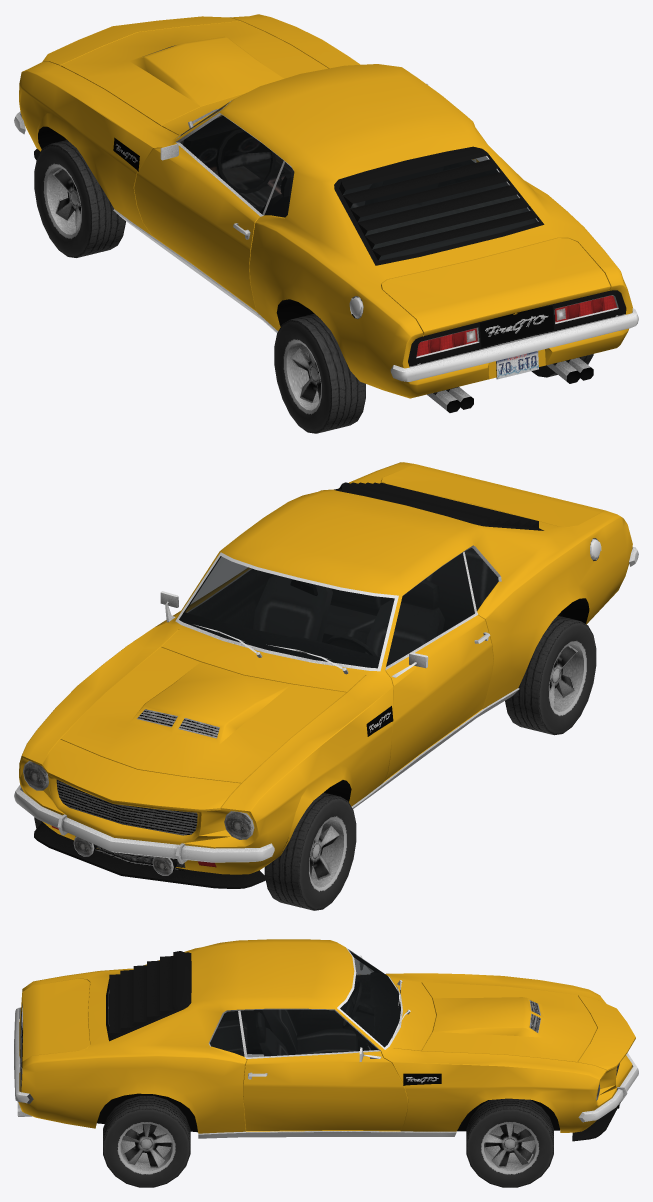
The model's file is musclecar.glb.
3 views of the same model, one above another, from view 1: azimuth 30°, elevation 25°; view 2: azimuth 150°, elevation 25°; view 3: azimuth 270°, elevation 25° (orthographic). The views are drawn at different scales.
Parts seen in each view (by area): view 1: Body, Trim, Glass, Interior, WheelRL, WheelFL, LightsRear; view 2: Body, Trim, Glass, Interior, WheelFL, WheelRL, LightsFront; view 3: Body, Trim, Glass, Interior, WheelRR, WheelFR.
Boxes of the visible parts, x1=… form: Body: x1=19, y1=14, x2=632, y2=398; Trim: x1=14, y1=45, x2=638, y2=412; Glass: x1=180, y1=102, x2=537, y2=260; Interior: x1=181, y1=116, x2=537, y2=260; WheelRL: x1=274, y1=313, x2=365, y2=433; WheelFL: x1=34, y1=140, x2=125, y2=257; LightsRear: x1=416, y1=295, x2=616, y2=356; Body: x1=19, y1=462, x2=632, y2=874; Trim: x1=14, y1=482, x2=638, y2=888; Glass: x1=179, y1=548, x2=498, y2=668; Interior: x1=179, y1=548, x2=498, y2=668; WheelFL: x1=264, y1=792, x2=356, y2=910; WheelRL: x1=505, y1=615, x2=596, y2=735; LightsFront: x1=23, y1=762, x2=252, y2=875; Body: x1=18, y1=939, x2=635, y2=1133; Trim: x1=14, y1=947, x2=638, y2=1141; Glass: x1=109, y1=949, x2=400, y2=1057; Interior: x1=109, y1=951, x2=400, y2=1056; WheelRR: x1=103, y1=1095, x2=190, y2=1187; WheelFR: x1=466, y1=1098, x2=553, y2=1187.
Bounding box in the file's own units: 6.21 × 5 × 16.49.
6 materials, 4 textured.
